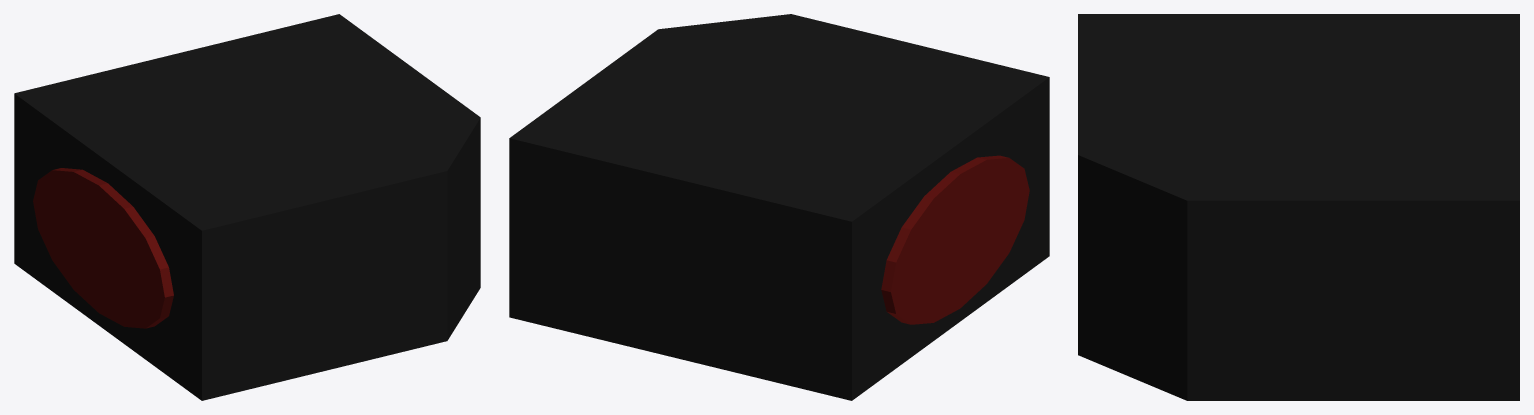
The model's file is Sensor.fbx.
3 views of the same model, side by side, from view 1: azimuth 30°, elevation 25°; view 2: azimuth 150°, elevation 25°; view 3: azimuth 270°, elevation 25° (orthographic). The views are drawn at different scales.
Visible parts, largest first — view 1: Sensor_Body, Sensor_Head; view 2: Sensor_Body, Sensor_Head; view 3: Sensor_Body.
Boxes of the visible parts, x1=… form: Sensor_Body: x1=14, y1=14, x2=480, y2=400; Sensor_Head: x1=33, y1=168, x2=173, y2=328; Sensor_Body: x1=509, y1=14, x2=1049, y2=400; Sensor_Head: x1=881, y1=155, x2=1029, y2=324; Sensor_Body: x1=1078, y1=14, x2=1519, y2=400.
Size of the model in its own units: 8.22 by 4 by 8.
